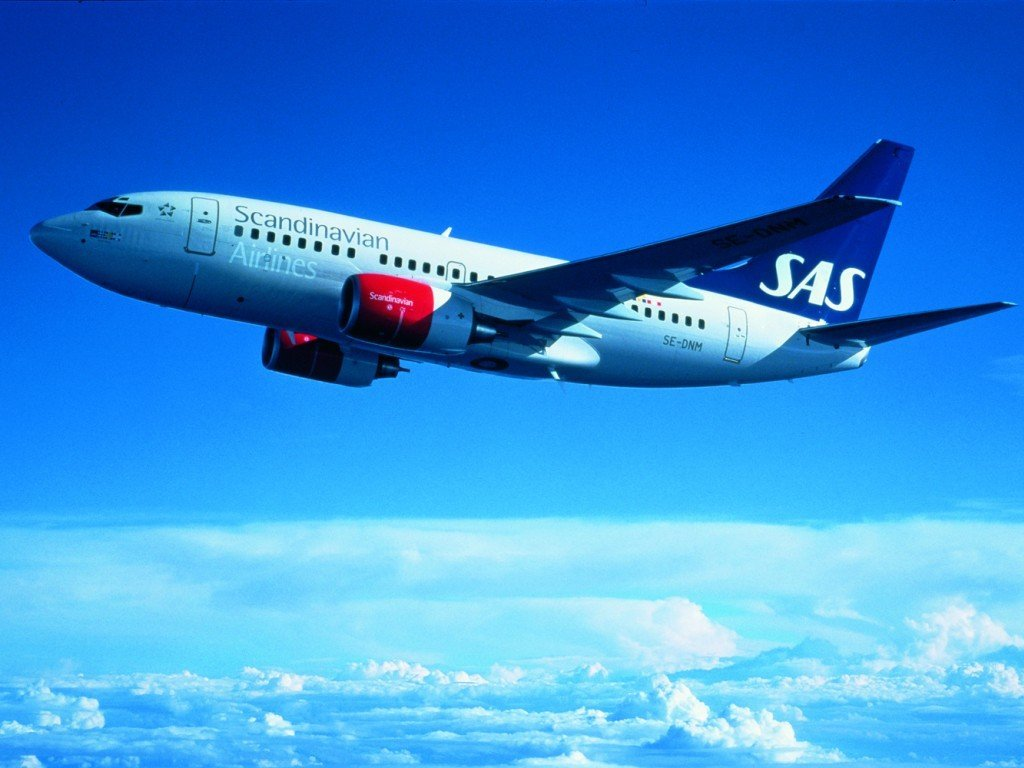aeroplane: (31, 125, 1019, 411)
